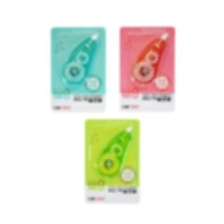book: (116, 24, 177, 113), (48, 25, 108, 114), (82, 118, 142, 204)
correction_fluid: (92, 124, 135, 180), (130, 31, 171, 86), (60, 31, 101, 86)
